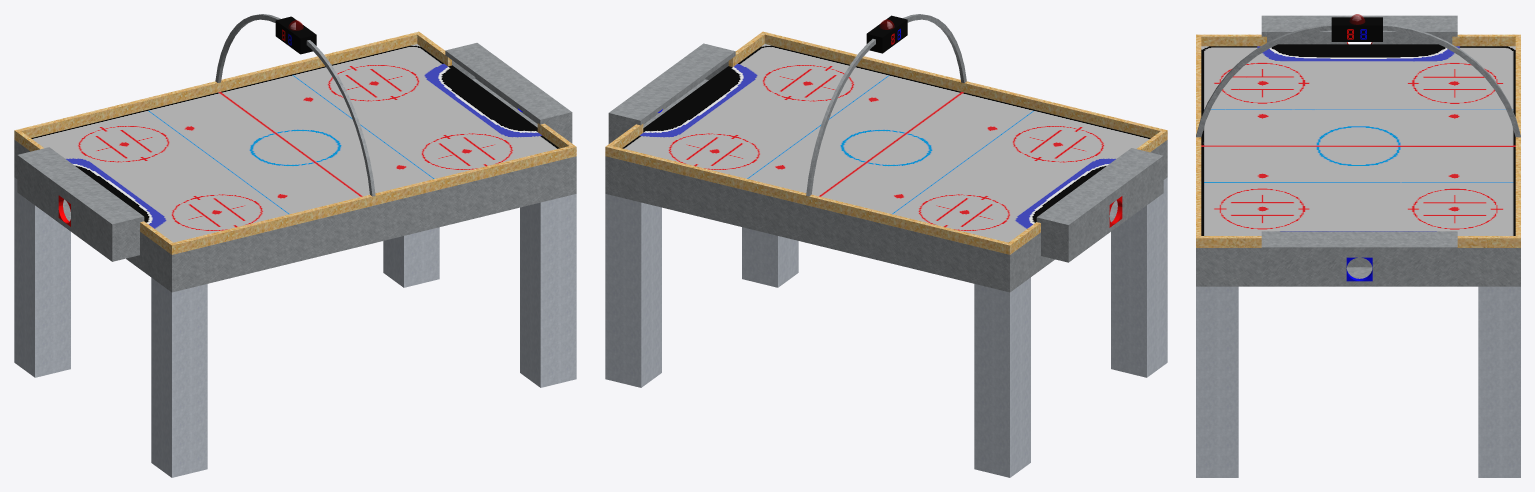
The model's file is TableA_3.FBX.
3 renders of one model, left to right at view 1: azimuth 30°, elevation 25°; view 2: azimuth 150°, elevation 25°; view 3: azimuth 270°, elevation 25°, orthographic. The views are drawn at different scales.
Visible parts, largest first — view 1: Layer0_001; view 2: Layer0_001; view 3: Layer0_001.
Part boxes in pixels (x1=…): Layer0_001: x1=14, y1=14, x2=576, y2=477; Layer0_001: x1=605, y1=14, x2=1167, y2=477; Layer0_001: x1=1196, y1=14, x2=1520, y2=477.
Bounding box in the file's own units: 2604 × 1898 × 1544.
Materials: 9 (5 with a texture image).
